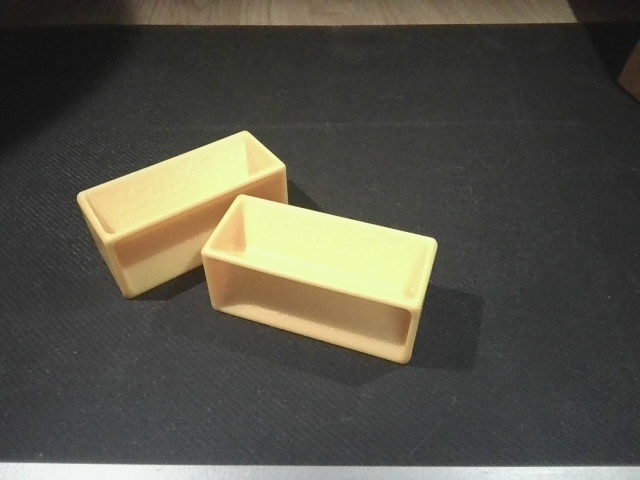YellowSample: (198, 193, 438, 370), (74, 125, 294, 302)
